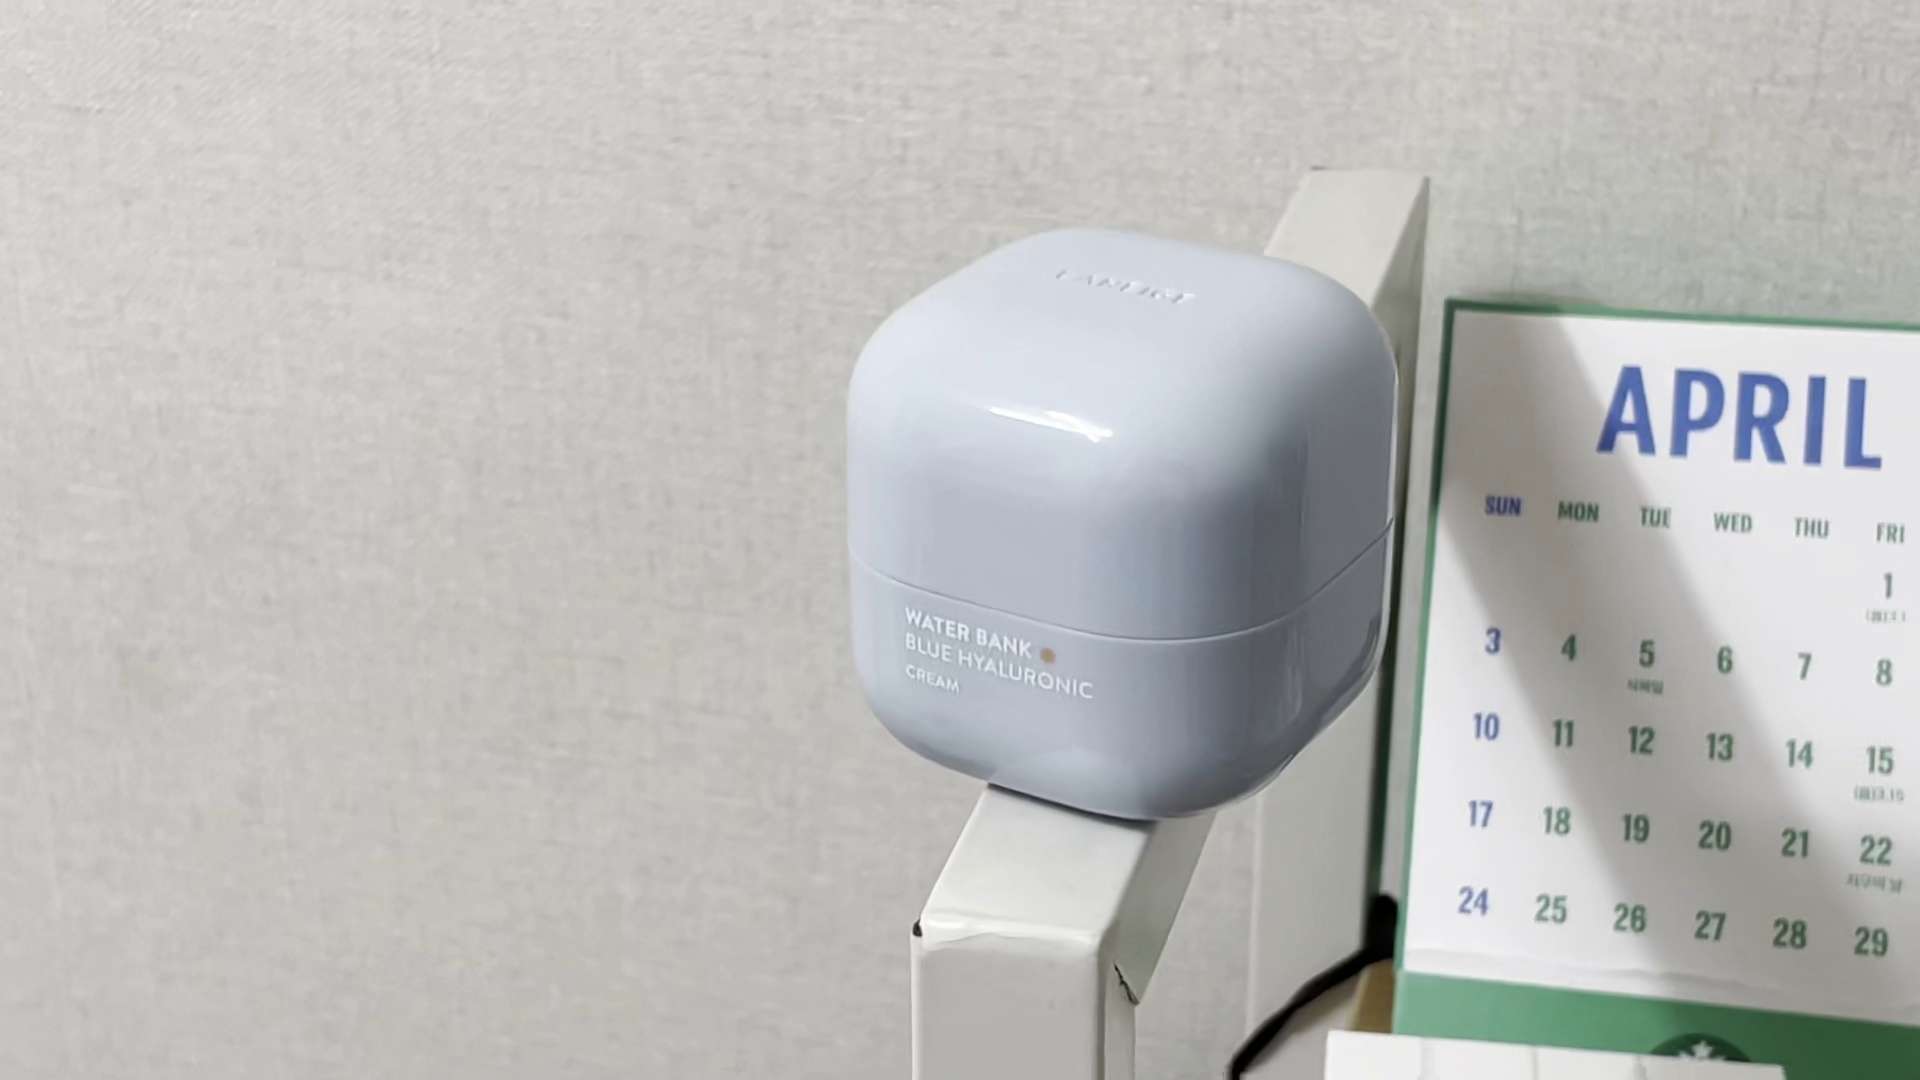cream: (848, 218, 1391, 827)
